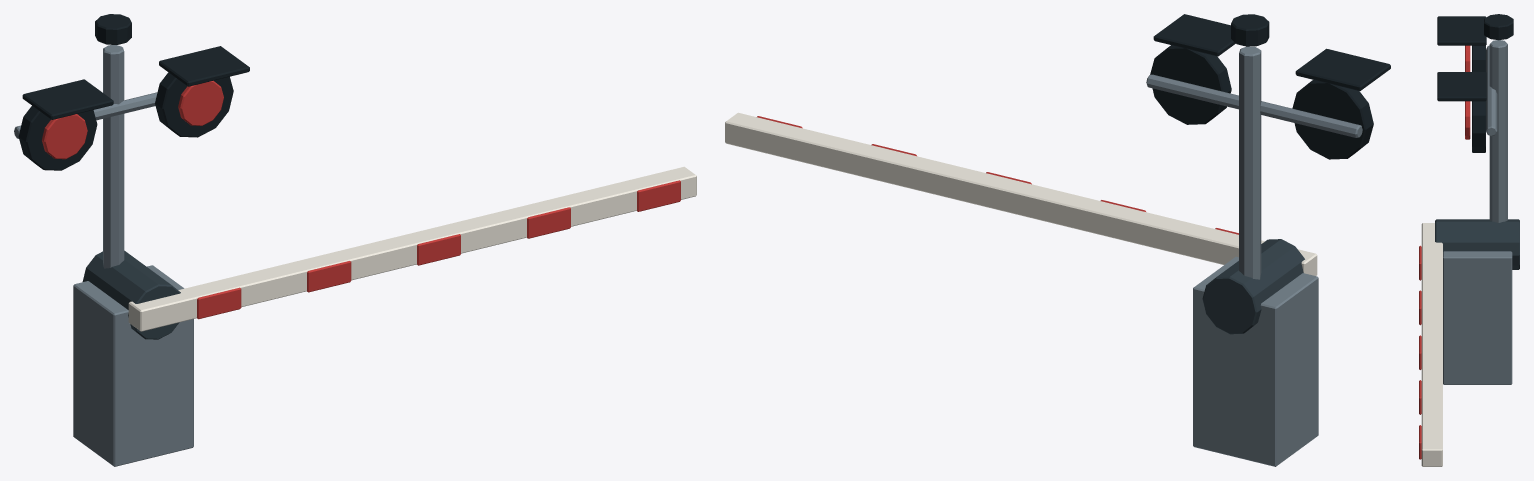
Rendered from b02_railroad_crossing_gate.glb.
3 renders of one model, left to right at view 1: azimuth 30°, elevation 25°; view 2: azimuth 150°, elevation 25°; view 3: azimuth 270°, elevation 25°, orthographic. The views are drawn at different scales.
Parts seen in each view (by area): view 1: b02_railroad_crossing_gate; view 2: b02_railroad_crossing_gate; view 3: b02_railroad_crossing_gate.
Boxes of the visible parts, x1,y1,x2,y2 form: b02_railroad_crossing_gate: [14, 14, 696, 466]; b02_railroad_crossing_gate: [725, 14, 1390, 466]; b02_railroad_crossing_gate: [1419, 14, 1519, 466].
Bounding box in the file's own units: 4.38 × 2.7 × 0.714.
